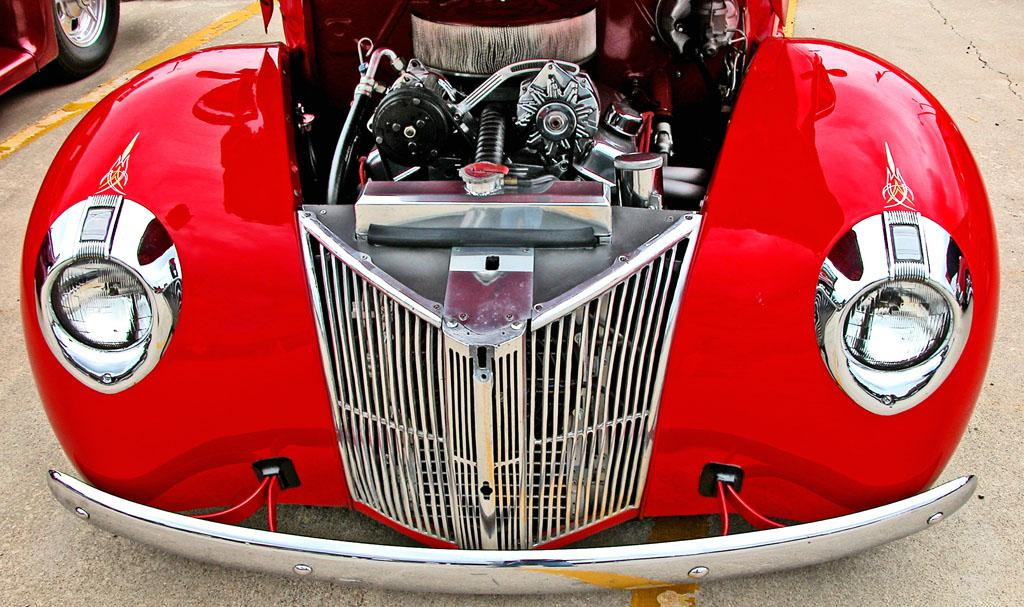Car: (0, 26, 961, 580), (0, 0, 120, 93)
